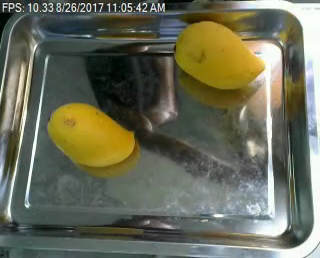Mango: (165, 17, 265, 94), (45, 99, 140, 173)
